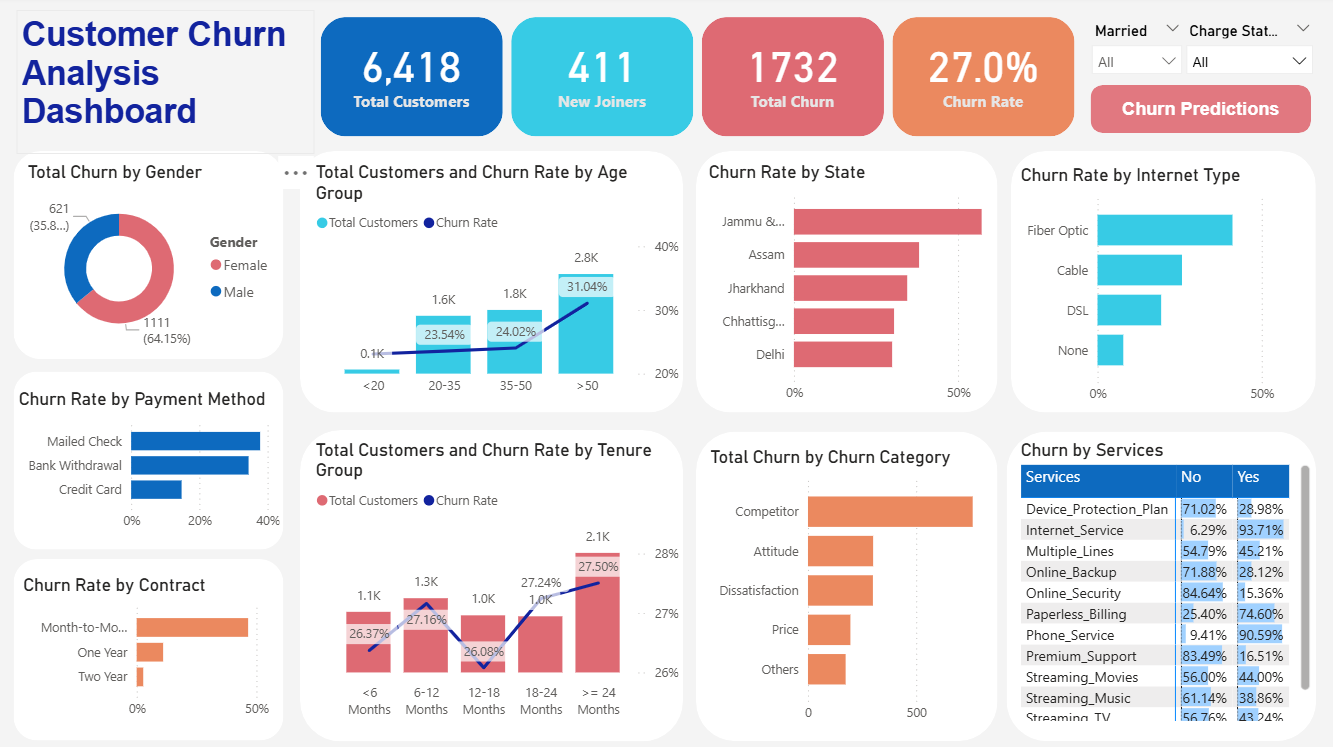

This screenshot's page, from the dashboard's own definition file:
{"tool":"powerbi","page":{"name":"Churn Summary","canvas":[1280,720],"ordinal":0},"visuals":[{"type":"shape","box":[963.9,416.7,295.9,295.9],"z":0},{"type":"shape","box":[967.6,149.4,291.1,249.7],"z":1000},{"type":"shape","box":[667,149.4,287.9,249.7],"z":2000},{"type":"shape","box":[290,149.4,365.8,249.7],"z":3000},{"type":"shape","box":[290,415,365.8,297.4],"z":4000},{"type":"shape","box":[667,416.6,287.9,295.9],"z":5000},{"type":"shape","box":[16.4,359.3,257.7,170.2],"z":6000},{"type":"shape","box":[16.4,539.1,257.7,173.4],"z":7000},{"type":"shape","box":[16.3,149,257.7,198.8],"z":8000},{"type":"cardVisual","fields":{"Data":["All Measures.Total Customers","All Measures.New Joiners","All Measures.Total Churn","All Measures.Churn Rate"]},"box":[304.4,15.1,732.9,124.2],"z":9000},{"type":"donutChart","fields":{"Category":["prod_Churn.Gender"],"Y":["All Measures.Total Churn"]},"box":[24.2,158.5,249.7,184.5],"z":10000},{"type":"lineStackedColumnComboChart","fields":{"Category":["mapping_AgeGroup.Age Group"],"Y":["All Measures.Total Customers"],"Y2":["All Measures.Churn Rate"]},"box":[299.5,158.9,356.3,232.2],"z":11000},{"type":"clusteredBarChart","title":"Churn Rate by Payment Method","fields":{"Category":["prod_Churn.Payment_Method"],"Y":["All Measures.Churn Rate"]},"box":[16.4,375.2,259.3,144.7],"z":12000},{"type":"clusteredBarChart","fields":{"Y":["All Measures.Churn Rate"],"Category":["prod_Churn.Contract"]},"box":[19.6,553.4,267.2,146.3],"z":13000},{"type":"lineStackedColumnComboChart","fields":{"Category":["mapping_TenureGrp.Tenure Group"],"Y":["All Measures.Total Customers"],"Y2":["All Measures.Churn Rate"]},"box":[299.5,424.5,356.3,273.6],"z":14000},{"type":"clusteredBarChart","fields":{"Category":["prod_Churn.State"],"Y":["All Measures.Churn Rate"]},"box":[674.9,158.9,291.1,238.6],"z":15000},{"type":"clusteredBarChart","title":"Total Churn by Churn Category","fields":{"Y":["All Measures.Total Churn"],"Category":["prod_Churn.Churn_Category"]},"box":[676.5,430.9,278.4,272],"z":16000},{"type":"clusteredBarChart","title":"Churn Rate by Internet Type","fields":{"Category":["prod_Churn.Internet_Type"],"Y":["All Measures.Churn Rate"]},"box":[972.4,162.1,283.1,237],"z":17000},{"type":"pivotTable","title":"Churn by Services","fields":{"Rows":["prod_Services.Services"],"Columns":["prod_Services.Status"],"Values":["Sum(prod_Services.Churn Status)"]},"box":[972.4,424.5,286.3,273.6],"z":18000},{"type":"slicer","fields":{"Values":["prod_Services.Monthly Charge Status"]},"box":[1125.9,19.4,140.4,61.6],"z":19000},{"type":"slicer","fields":{"Values":["prod_Services.Married"]},"box":[1035.6,19.4,106,61.6],"z":20000},{"type":"textbox","box":[18.6,14.3,285,137.5],"z":21000},{"type":"actionButton","box":[1044.2,85.7,210.6,45.8],"z":22000}]}

Visuals, with their boxes in screenshot pixels (x1, y1, x2, y2), scaled from the page's 1280x720 canvas onto the 1333x747 screenshot:
shape: bbox(1004, 432, 1312, 739)
shape: bbox(1008, 155, 1311, 414)
shape: bbox(695, 155, 994, 414)
shape: bbox(302, 155, 683, 414)
shape: bbox(302, 431, 683, 739)
shape: bbox(695, 432, 994, 739)
shape: bbox(17, 373, 285, 549)
shape: bbox(17, 559, 285, 739)
shape: bbox(17, 155, 285, 361)
cardVisual - All Measures.Total Customers x All Measures.New Joiners: bbox(317, 16, 1080, 145)
donutChart - prod_Churn.Gender x All Measures.Total Churn: bbox(25, 164, 285, 356)
lineStackedColumnComboChart - mapping_AgeGroup.Age Group x All Measures.Total Customers: bbox(312, 165, 683, 406)
"Churn Rate by Payment Method" clusteredBarChart: bbox(17, 389, 287, 539)
clusteredBarChart - All Measures.Churn Rate x prod_Churn.Contract: bbox(20, 574, 299, 726)
lineStackedColumnComboChart - mapping_TenureGrp.Tenure Group x All Measures.Total Customers: bbox(312, 440, 683, 724)
clusteredBarChart - prod_Churn.State x All Measures.Churn Rate: bbox(703, 165, 1006, 412)
"Total Churn by Churn Category" clusteredBarChart: bbox(705, 447, 994, 729)
"Churn Rate by Internet Type" clusteredBarChart: bbox(1013, 168, 1307, 414)
"Churn by Services" pivotTable: bbox(1013, 440, 1311, 724)
slicer - prod_Services.Monthly Charge Status: bbox(1173, 20, 1319, 84)
slicer - prod_Services.Married: bbox(1078, 20, 1189, 84)
textbox: bbox(19, 15, 316, 157)
actionButton: bbox(1087, 89, 1307, 136)
